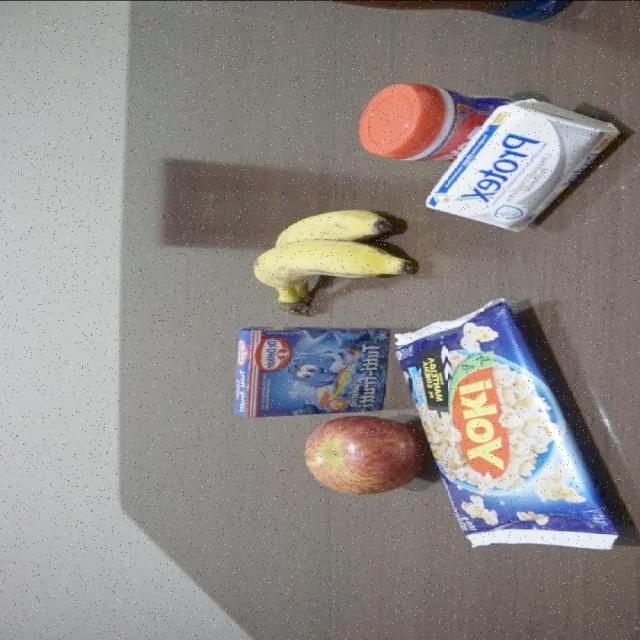Apple: (299, 416, 429, 495)
Banana: (246, 208, 420, 317)
Gelatine: (232, 324, 400, 420)
Ketchup: (178, 0, 597, 24)
Popcorn: (390, 299, 620, 551)
Soap: (420, 97, 632, 232)
Yeast: (354, 76, 521, 168)
